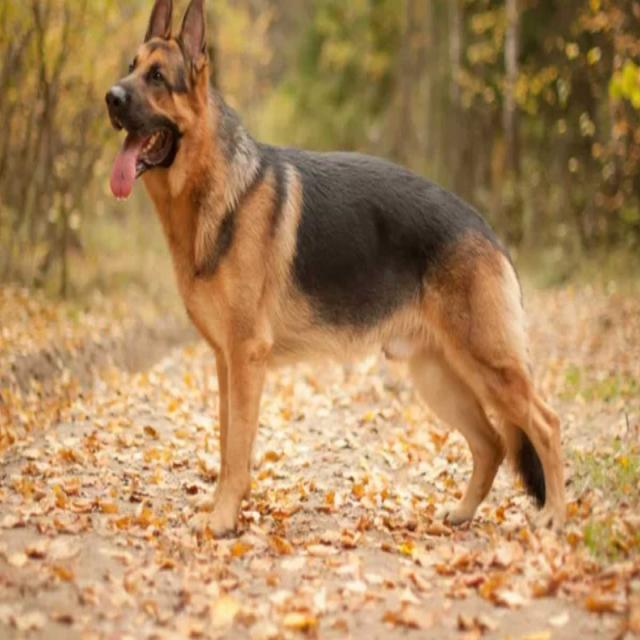GERMAN_SHEPHERD: (96, 0, 578, 566)
